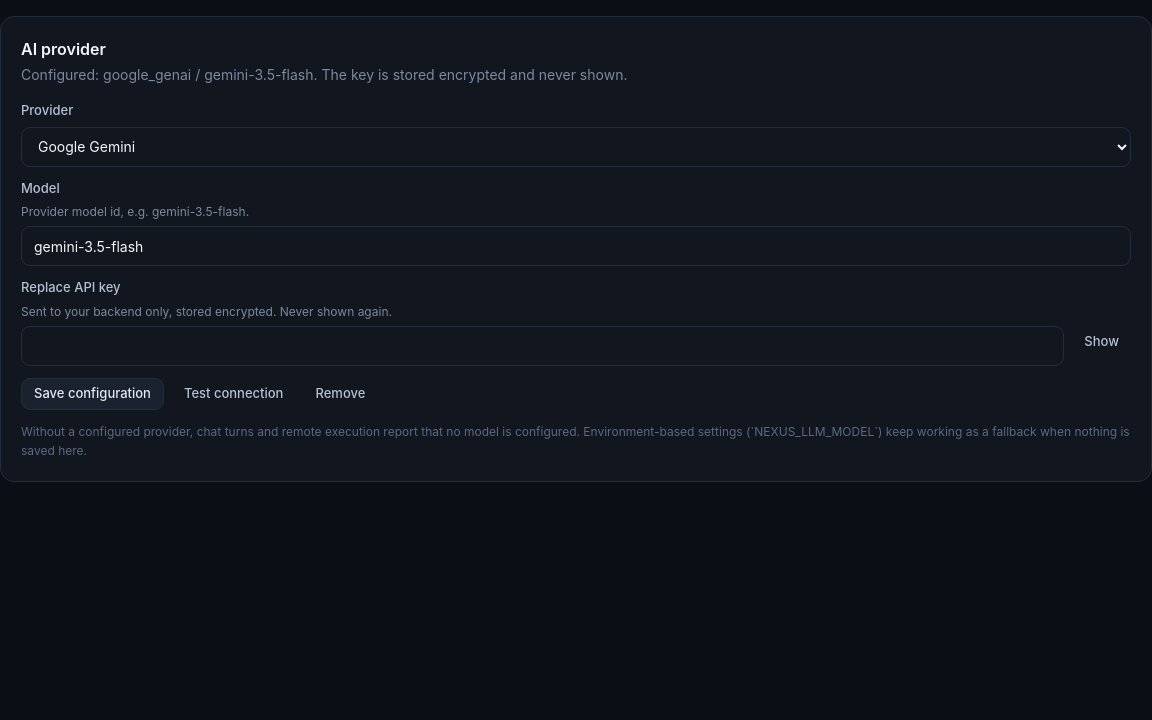
Test: AiProviderSection › removes the configuration after confirmation
This screenshot has width=1152, height=720.
Click the button "Remove": {"x": 340, "y": 394} [304, 378, 377, 410]
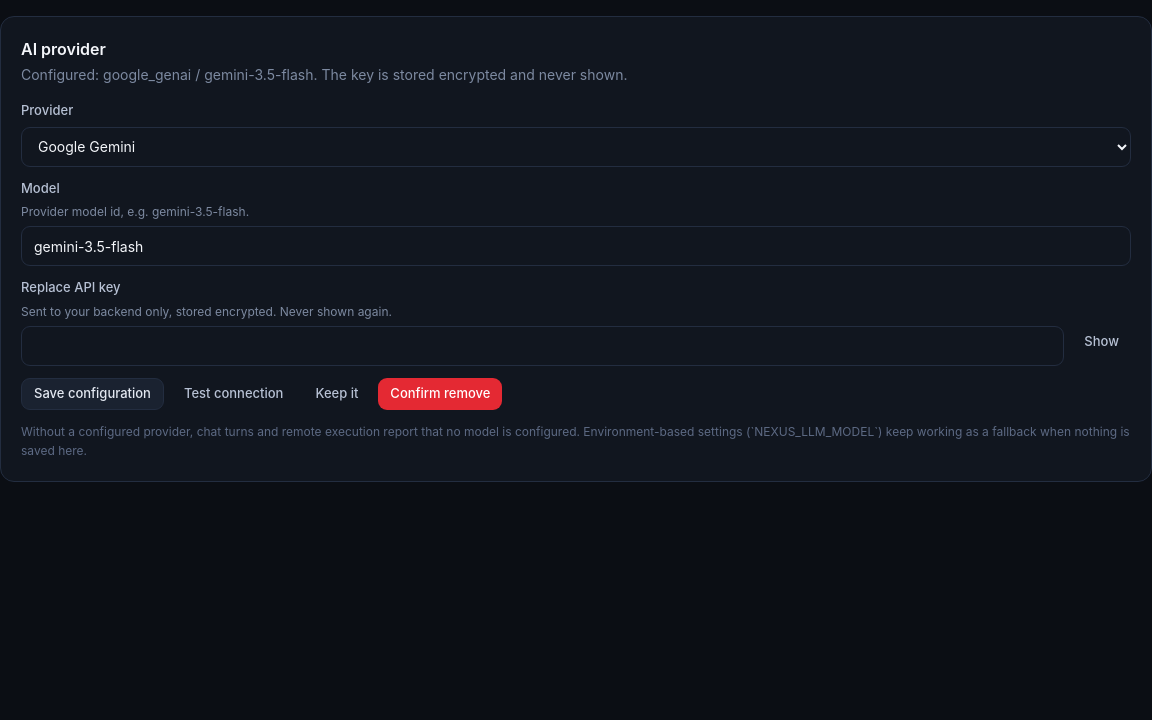
Click the button "Confirm remove": {"x": 440, "y": 394} [378, 378, 502, 410]
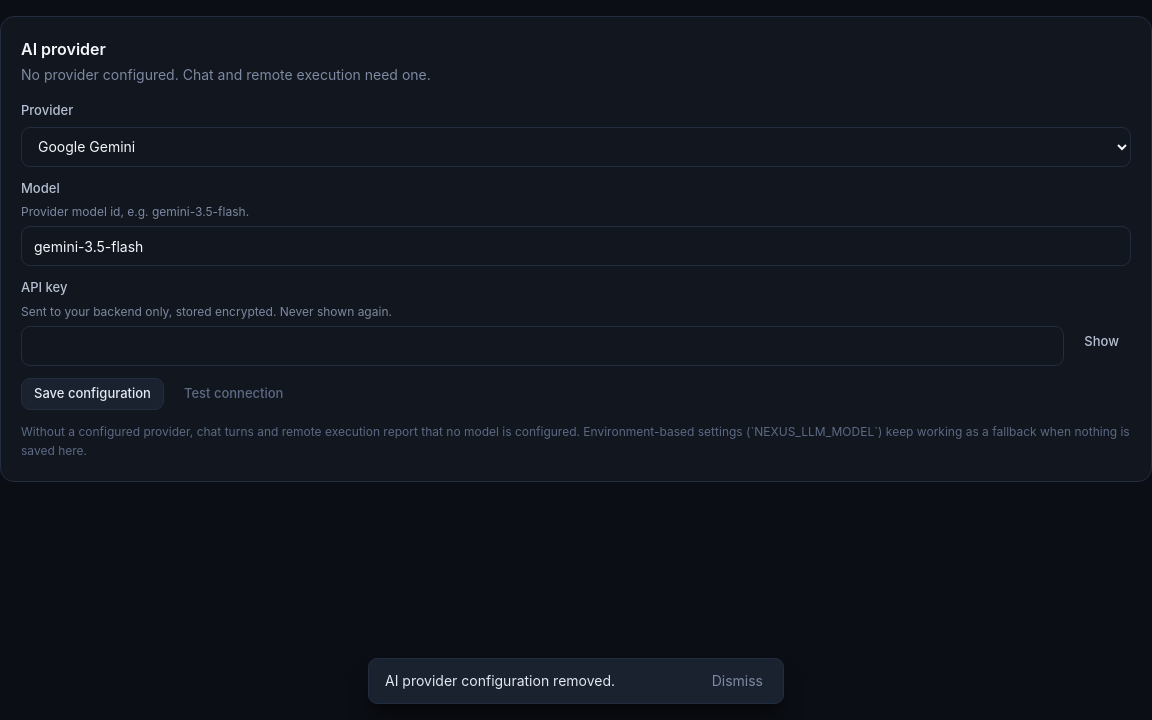
Expected: the text "No provider configured. Chat and remote execution need one." is shown, [21, 66, 431, 83]
